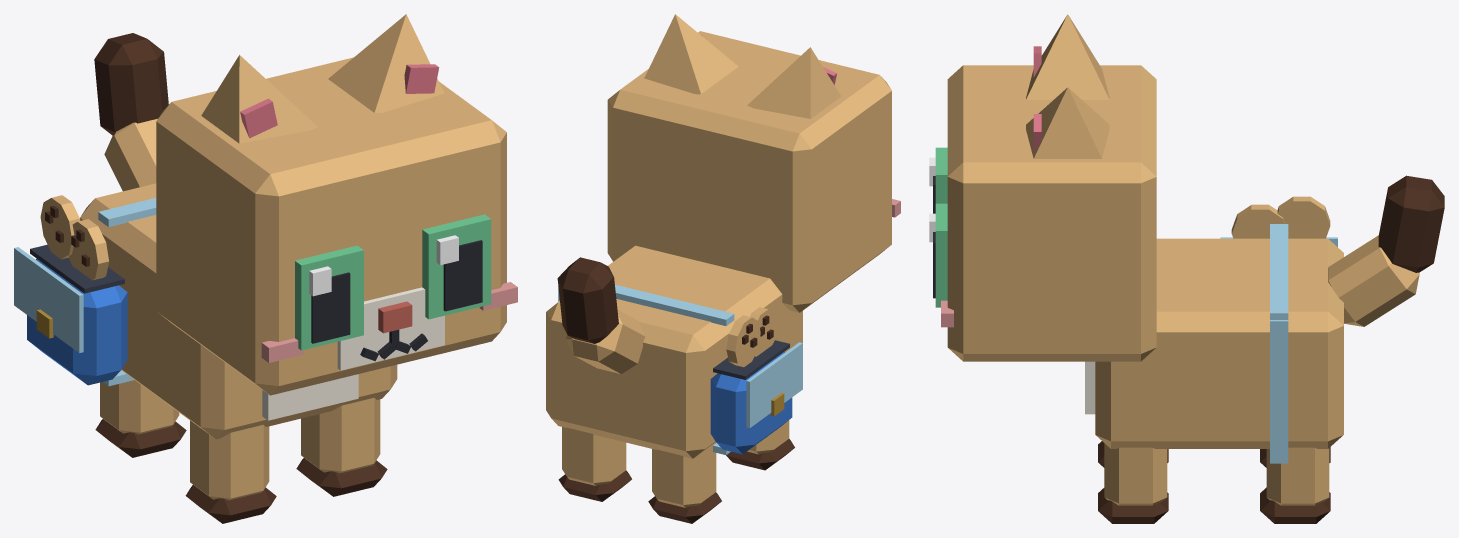
Rendered from CatCafe_Cat_Biscuit.fbx.
The picture shows the model from 3 angles, left to right: view 1: azimuth 30°, elevation 25°; view 2: azimuth 150°, elevation 25°; view 3: azimuth 270°, elevation 25°; orthographic projection. The views are drawn at different scales.
Visible parts, largest first — view 1: CatCafe_Cat_Biscuit_Head, CatCafe_Cat_Biscuit_Body, CatCafe_Cat_Biscuit_Tail, CatCafe_Cat_Biscuit_LegF2, CatCafe_Cat_Biscuit_LegF1, CatCafe_Cat_Biscuit_Eye1, CatCafe_Cat_Biscuit_Eye2, CatCafe_Cat_Biscuit_EarL, CatCafe_Cat_Biscuit_EarR, CatCafe_Cat_Biscuit_LegB2; view 2: CatCafe_Cat_Biscuit_Head, CatCafe_Cat_Biscuit_Body, CatCafe_Cat_Biscuit_Tail, CatCafe_Cat_Biscuit_LegB2, CatCafe_Cat_Biscuit_EarL, CatCafe_Cat_Biscuit_LegB1, CatCafe_Cat_Biscuit_EarR, CatCafe_Cat_Biscuit_LegF2; view 3: CatCafe_Cat_Biscuit_Head, CatCafe_Cat_Biscuit_Body, CatCafe_Cat_Biscuit_Tail, CatCafe_Cat_Biscuit_LegF1, CatCafe_Cat_Biscuit_LegB1, CatCafe_Cat_Biscuit_EarR, CatCafe_Cat_Biscuit_EarL, CatCafe_Cat_Biscuit_Eye1, CatCafe_Cat_Biscuit_Eye2.
Boxes of the visible parts, box(x1,y1,x2,y2) form: CatCafe_Cat_Biscuit_Head: box(156, 57, 517, 395); CatCafe_Cat_Biscuit_Body: box(14, 183, 397, 439); CatCafe_Cat_Biscuit_Tail: box(94, 33, 168, 191); CatCafe_Cat_Biscuit_LegF2: box(185, 420, 276, 523); CatCafe_Cat_Biscuit_LegF1: box(296, 397, 387, 496); CatCafe_Cat_Biscuit_Eye1: box(422, 214, 491, 319); CatCafe_Cat_Biscuit_Eye2: box(295, 245, 363, 350); CatCafe_Cat_Biscuit_EarL: box(328, 14, 444, 112); CatCafe_Cat_Biscuit_EarR: box(201, 55, 317, 143); CatCafe_Cat_Biscuit_LegB2: box(95, 380, 186, 457); CatCafe_Cat_Biscuit_Head: box(607, 31, 900, 312); CatCafe_Cat_Biscuit_Body: box(546, 245, 802, 458); CatCafe_Cat_Biscuit_Tail: box(557, 257, 645, 374); CatCafe_Cat_Biscuit_LegB2: box(648, 442, 721, 523); CatCafe_Cat_Biscuit_EarL: box(644, 14, 738, 94); CatCafe_Cat_Biscuit_LegB1: box(558, 427, 631, 501); CatCafe_Cat_Biscuit_EarR: box(747, 47, 841, 118); CatCafe_Cat_Biscuit_LegF2: box(726, 420, 794, 470); CatCafe_Cat_Biscuit_Head: box(941, 65, 1156, 361); CatCafe_Cat_Biscuit_Body: box(1085, 196, 1343, 463); CatCafe_Cat_Biscuit_Tail: box(1328, 175, 1444, 326); CatCafe_Cat_Biscuit_LegF1: box(1098, 443, 1168, 523); CatCafe_Cat_Biscuit_LegB1: box(1260, 447, 1330, 523); CatCafe_Cat_Biscuit_EarR: box(1026, 14, 1109, 99); CatCafe_Cat_Biscuit_EarL: box(1026, 87, 1109, 158); CatCafe_Cat_Biscuit_Eye1: box(929, 203, 947, 307); CatCafe_Cat_Biscuit_Eye2: box(929, 147, 947, 213).
Bounding box in the file's own units: 1.15 × 1.86 × 1.97.
1 material, 1 textured.
